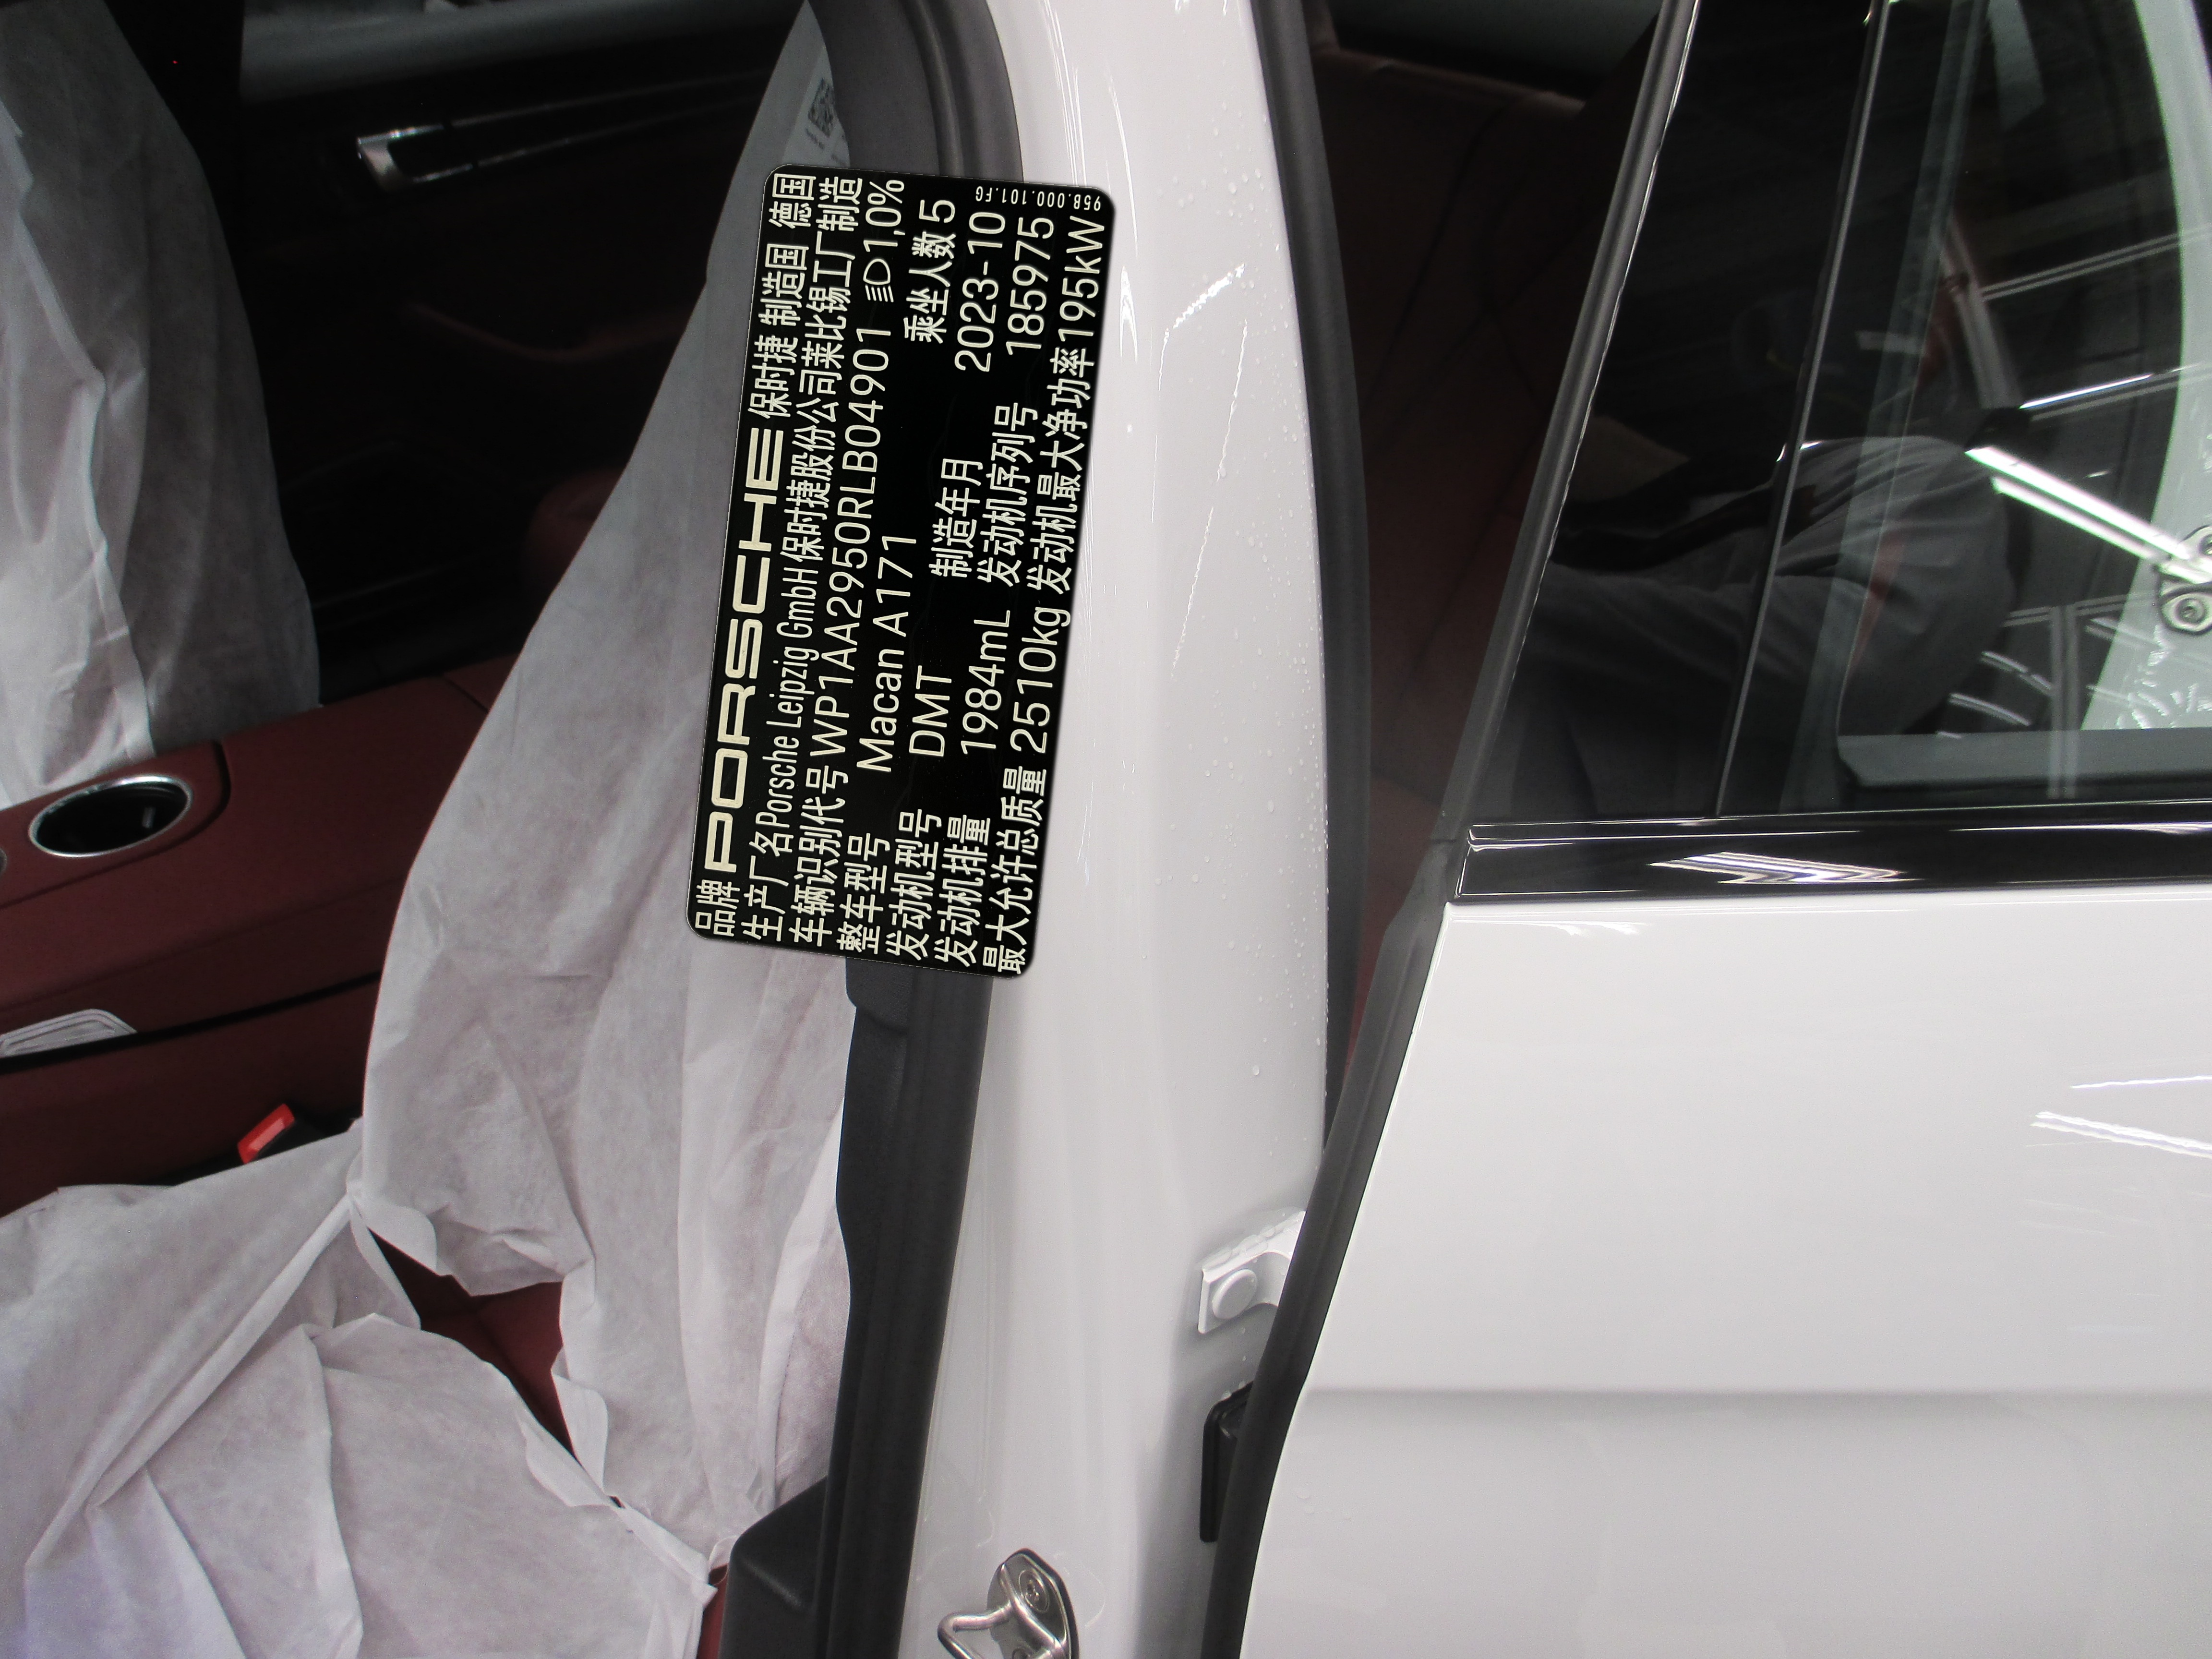Typlabel-China: (686, 164, 1115, 978)
